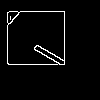L: (24, 23, 78, 71)
